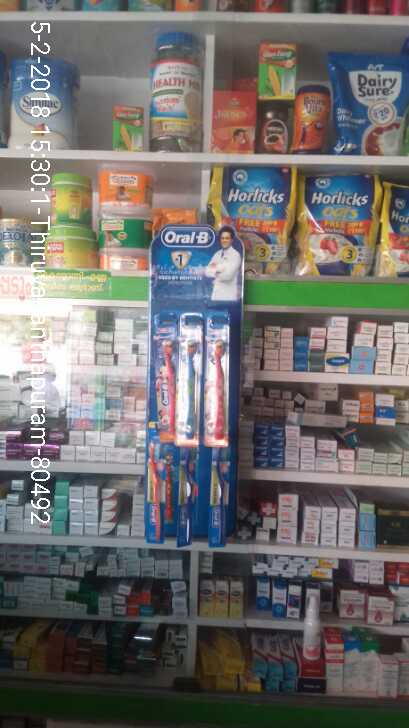oralb: (204, 308, 229, 444), (152, 308, 177, 444), (147, 442, 175, 546), (179, 308, 200, 445), (208, 445, 229, 549), (179, 445, 198, 546)
